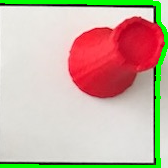Red Castle: (65, 11, 167, 104)
